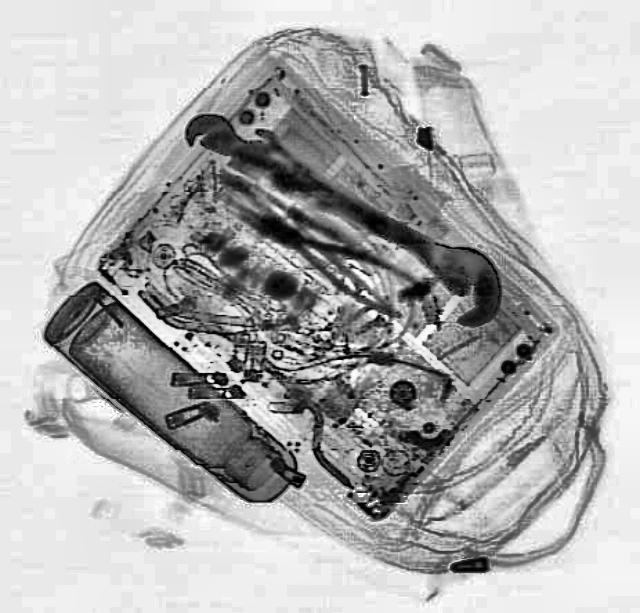Pliers: (232, 181, 430, 326), (212, 153, 390, 291)
Wrench: (258, 146, 522, 334), (170, 100, 332, 216)
